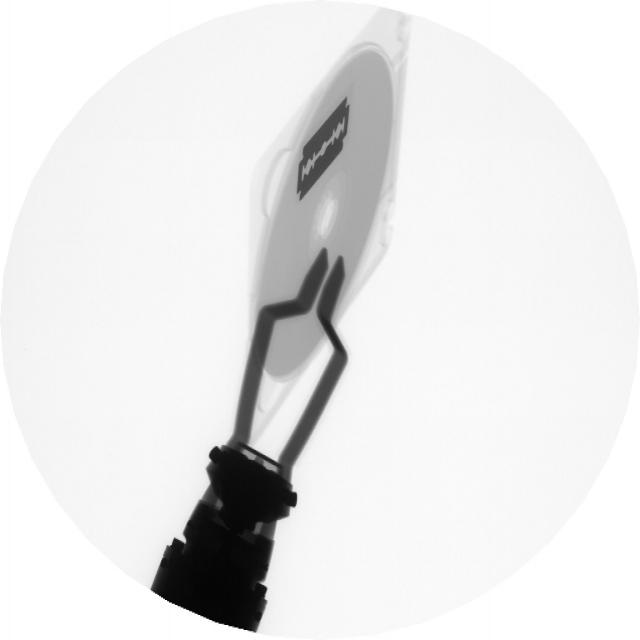BLADE: (290, 94, 357, 206)
